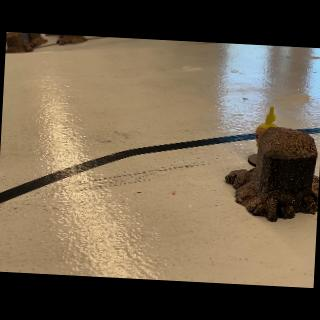teletubby: (255, 106, 277, 147)
